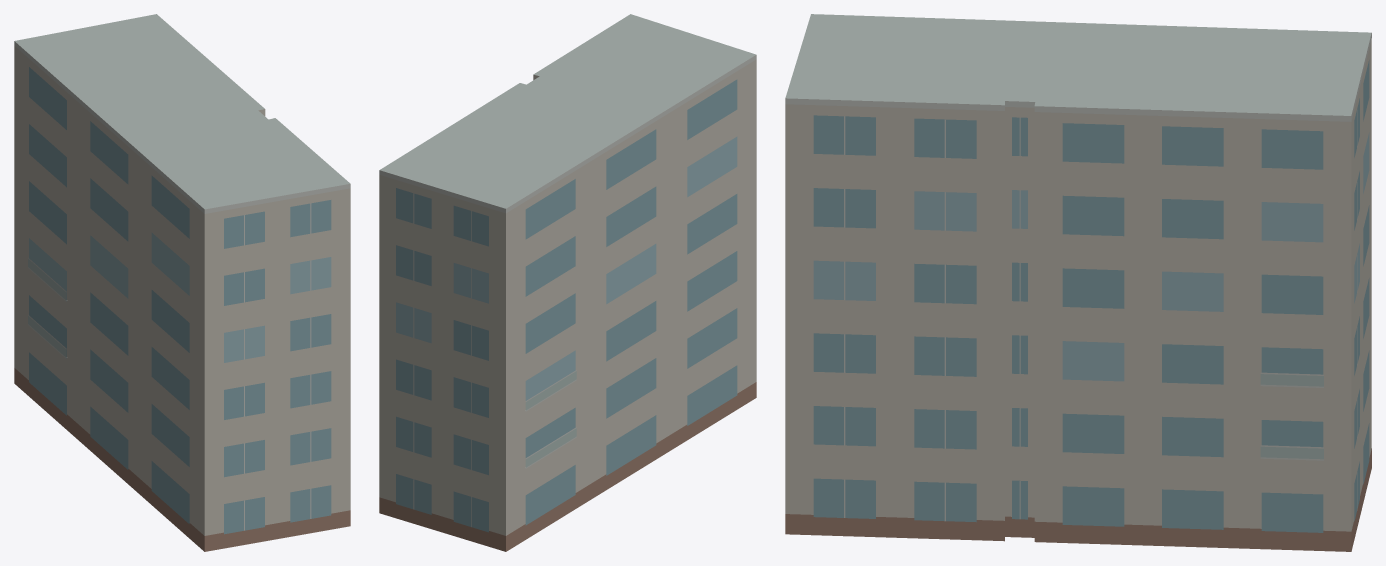
Rendered from survey-upis-32967678.glb.
The picture shows the model from 3 angles, left to right: view 1: azimuth 30°, elevation 25°; view 2: azimuth 150°, elevation 25°; view 3: azimuth 270°, elevation 25°; orthographic projection. The views are drawn at different scales.
Visible parts, largest first — view 1: survey-upis-32967678.tmp; view 2: survey-upis-32967678.tmp; view 3: survey-upis-32967678.tmp.
Part boxes in pixels (<box>): survey-upis-32967678.tmp: <box>14,14,350,551</box>; survey-upis-32967678.tmp: <box>379,14,756,551</box>; survey-upis-32967678.tmp: <box>785,14,1371,551</box>.
Bounding box in the file's own units: 9.2 × 18.3 × 22.32.
